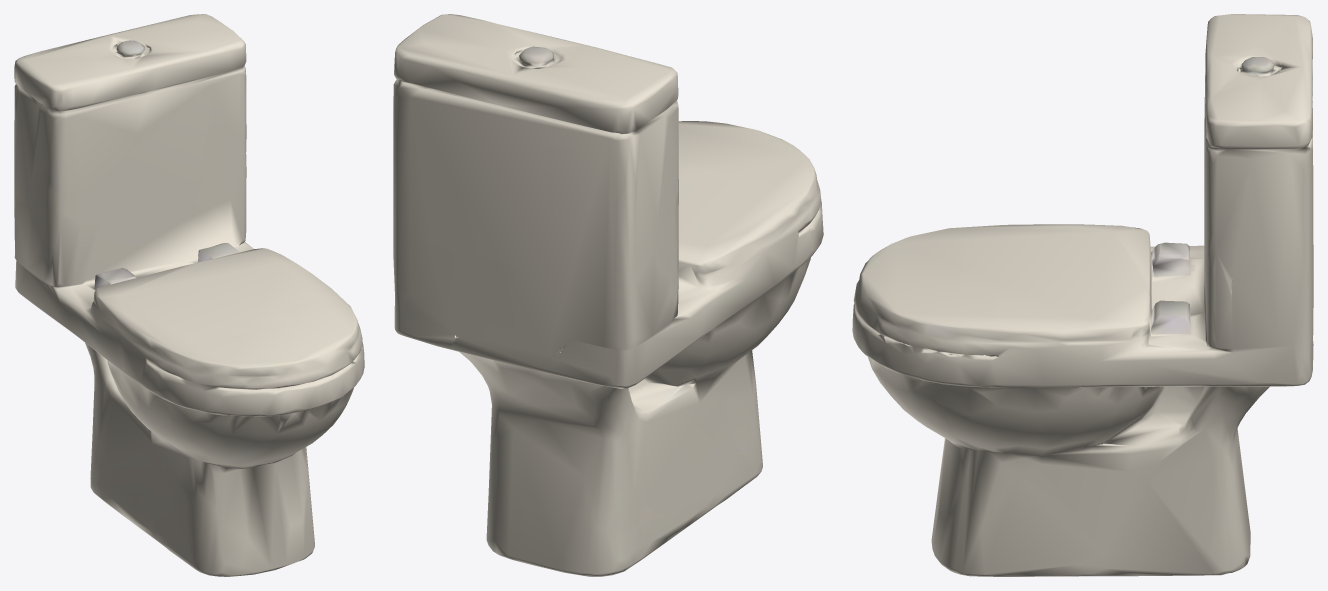
Rendered from toilet.glb.
3 views of the same model, side by side, from view 1: azimuth 30°, elevation 25°; view 2: azimuth 150°, elevation 25°; view 3: azimuth 270°, elevation 25° (orthographic). The views are drawn at different scales.
Parts seen in each view (by area): view 1: geometry_0; view 2: geometry_0; view 3: geometry_0.
Boxes of the visible parts, <box> form: geometry_0: <box>14,14,364,576</box>; geometry_0: <box>393,14,823,576</box>; geometry_0: <box>852,14,1313,576</box>.
Size of the model in its own units: 0.4973 by 1 by 0.8631.
Materials: 1 (1 with a texture image).
